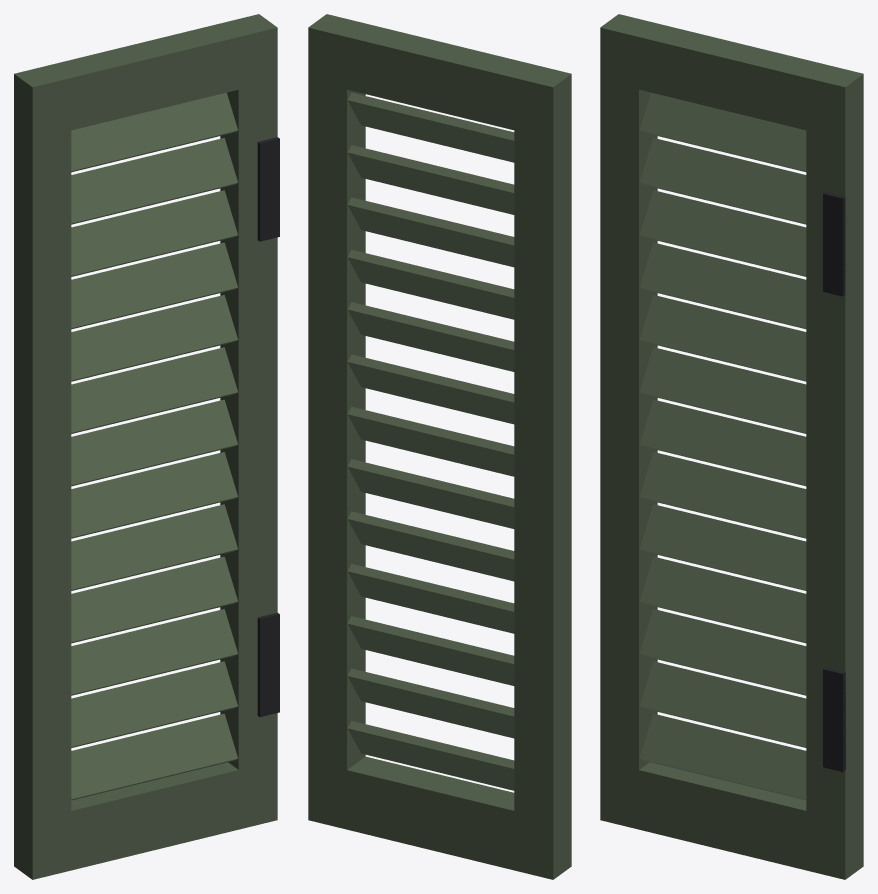
The model's file is SM_Wall_WindowShutter_Right_01.fbx.
3 views of the same model, side by side, from view 1: azimuth 30°, elevation 25°; view 2: azimuth 150°, elevation 25°; view 3: azimuth 330°, elevation 25° (orthographic).
Visible parts, largest first — view 1: SM_Wall_WindowShutter_Right_01; view 2: SM_Wall_WindowShutter_Right_01; view 3: SM_Wall_WindowShutter_Right_01.
Part boxes in pixels (left/top/right/bottom): SM_Wall_WindowShutter_Right_01: left=14, top=14, right=279, bottom=879; SM_Wall_WindowShutter_Right_01: left=308, top=14, right=571, bottom=879; SM_Wall_WindowShutter_Right_01: left=600, top=14, right=863, bottom=879.
Bounding box in the file's own units: 0.366 × 1.13 × 0.054.
Materials: 1 (1 with a texture image).
